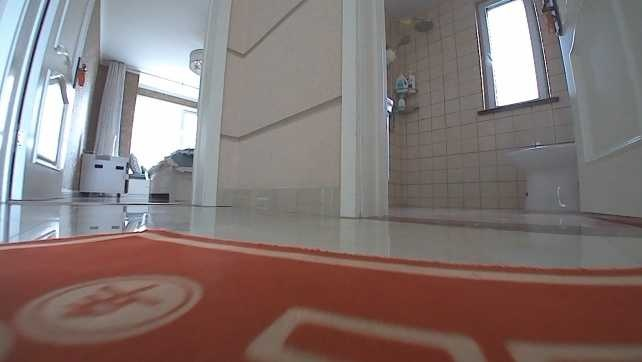bed1: (145, 146, 192, 201)
blanket: (0, 227, 640, 359)
door_anno: (539, 0, 640, 218), (0, 0, 95, 198)
toilet: (506, 143, 578, 214)
